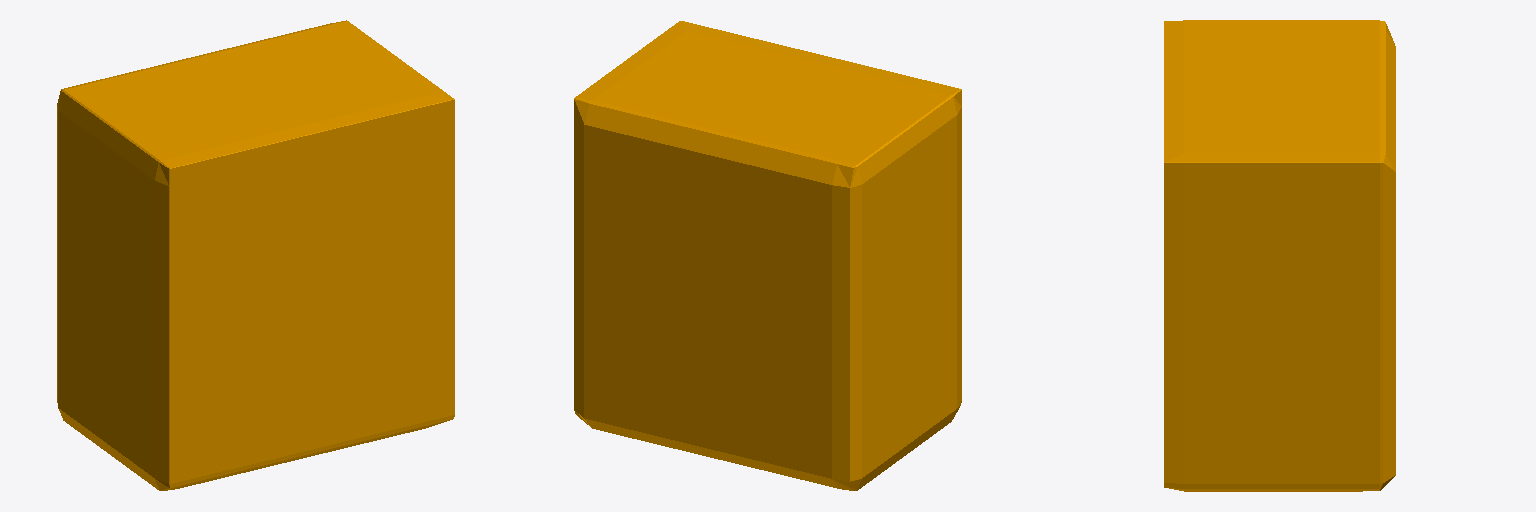
URDF robot description (cylinder_box_67):
<?xml version="1.0" encoding="utf-8"?>  <robot name="cylinder_box_67">   <link name="cylinder_box_67">     <visual>       <geometry>         <mesh filename="../meshes/box/box_67.stl" scale="1 1 1"/>       </geometry>     </visual>     <collision>       <geometry>         <mesh filename="../meshes/box/box_67.stl" scale="1 1 1"/>       </geometry>     </collision>     <inertial>        <origin         xyz="0 0 0"         rpy="0 0 0" />       <mass value="0.48354011443701994"/>       <origin rpy="0 0 0" xyz="0 0 0"/>       <inertia ixx="0.0004984768904521647" ixy="6.884051038287234e-07" ixz="-6.075916368490101e-07" iyy="0.0006599014210348964" iyz="7.310767069580974e-07" izz="0.0004401283250420914"/>     </inertial>   </link>  </robot>

--- What the picture shows (computed from the rendered views, not written in the file) ---
3 views of the same robot in one strip: view 1: azimuth 30°, elevation 25°; view 2: azimuth 150°, elevation 25°; view 3: azimuth 270°, elevation 25° (orthographic).
Robot: cylinder_box_67 — 1 links, 0 joints (none); root link cylinder_box_67; default pose: all joints at 0.
Links seen in each view (by area): view 1: cylinder_box_67; view 2: cylinder_box_67; view 3: cylinder_box_67.
Link boxes in pixels (bbox=[...]): cylinder_box_67: bbox=[57, 20, 454, 490]; cylinder_box_67: bbox=[574, 21, 961, 490]; cylinder_box_67: bbox=[1164, 20, 1395, 491].
Bounding box of the posed robot: 0.0868 × 0.0592 × 0.095 m (x, y, z).
1 mesh visuals loaded from 1 distinct referenced files (1 binary STL).